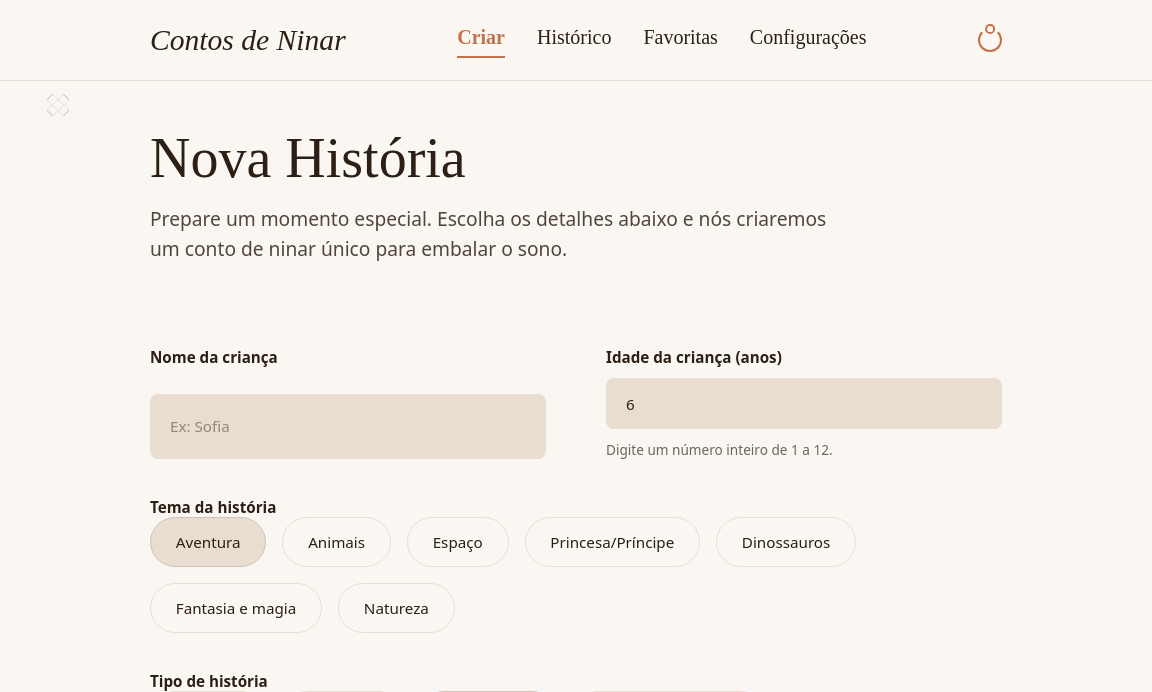
Test: Favorite stories › Favorites lists only favorite stories
This screenshot has width=1152, height=692.
Click the tab "Favoritas". click: (681, 40)
box: left=643, top=22, right=718, bottom=58
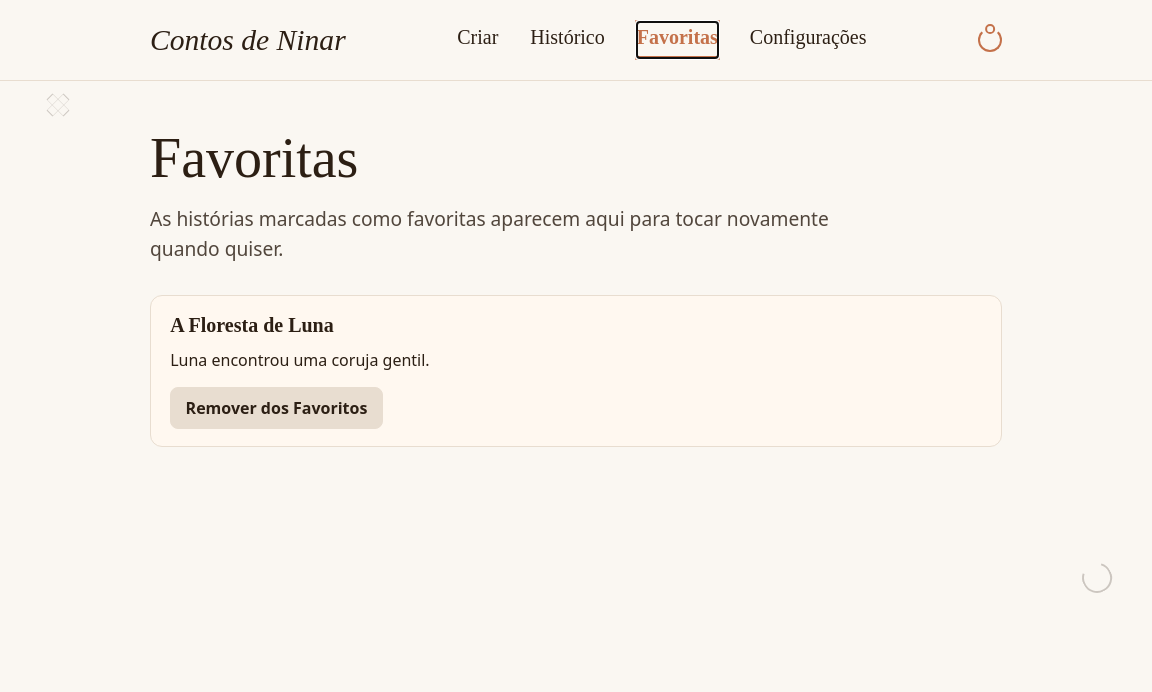
expect the heading "A Floresta de Luna" is shown: met, box left=170, top=314, right=334, bottom=336
